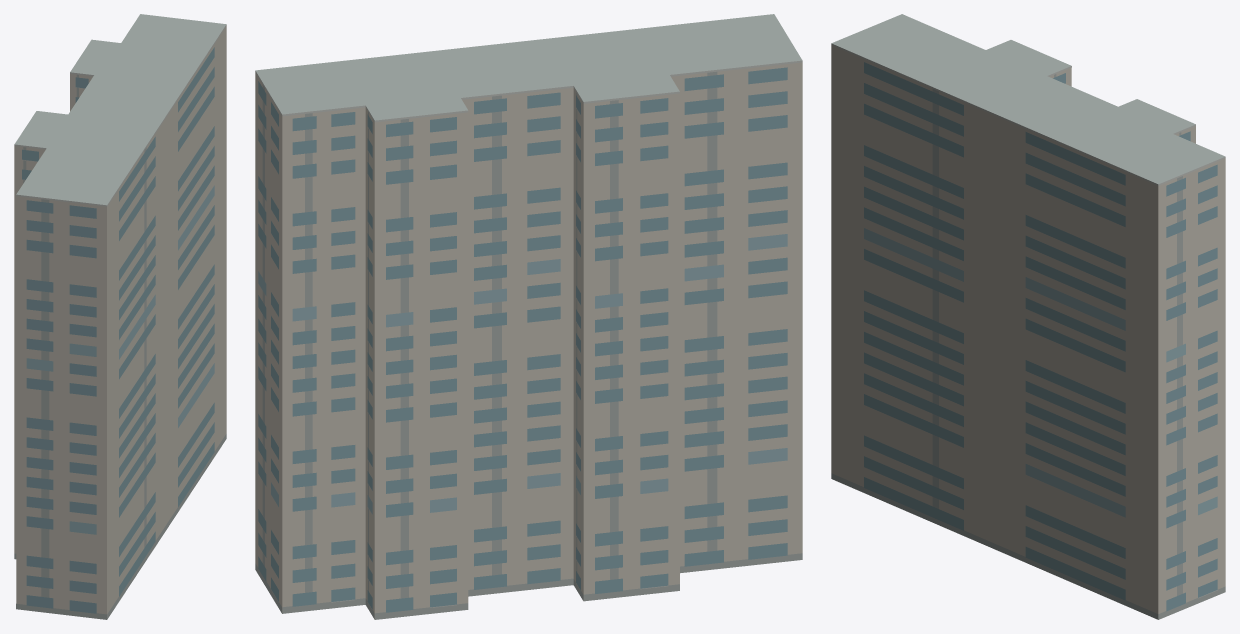
Rendered from residential-b347a865-7efe-4056-90b1-7be1ede06273.glb.
3 views of the same model, side by side, from view 1: azimuth 30°, elevation 25°; view 2: azimuth 150°, elevation 25°; view 3: azimuth 270°, elevation 25° (orthographic). The views are drawn at different scales.
Visible parts, largest first — view 1: residential-b347a865-7efe-4056-90b1-7be1ede06273.tmp; view 2: residential-b347a865-7efe-4056-90b1-7be1ede06273.tmp; view 3: residential-b347a865-7efe-4056-90b1-7be1ede06273.tmp.
Boxes of the visible parts, <box> form: residential-b347a865-7efe-4056-90b1-7be1ede06273.tmp: <box>14,14,226,619</box>; residential-b347a865-7efe-4056-90b1-7be1ede06273.tmp: <box>255,14,802,619</box>; residential-b347a865-7efe-4056-90b1-7be1ede06273.tmp: <box>831,14,1225,619</box>.
Size of the model in its own units: 53.74 by 64.05 by 52.56.
